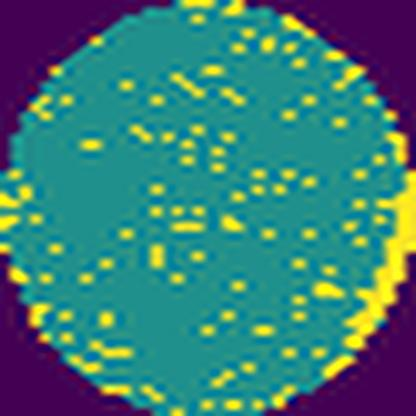Edge-Loc: (324, 160, 415, 385)
